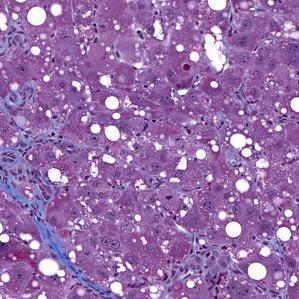fibrosis: (5, 152, 54, 235)
